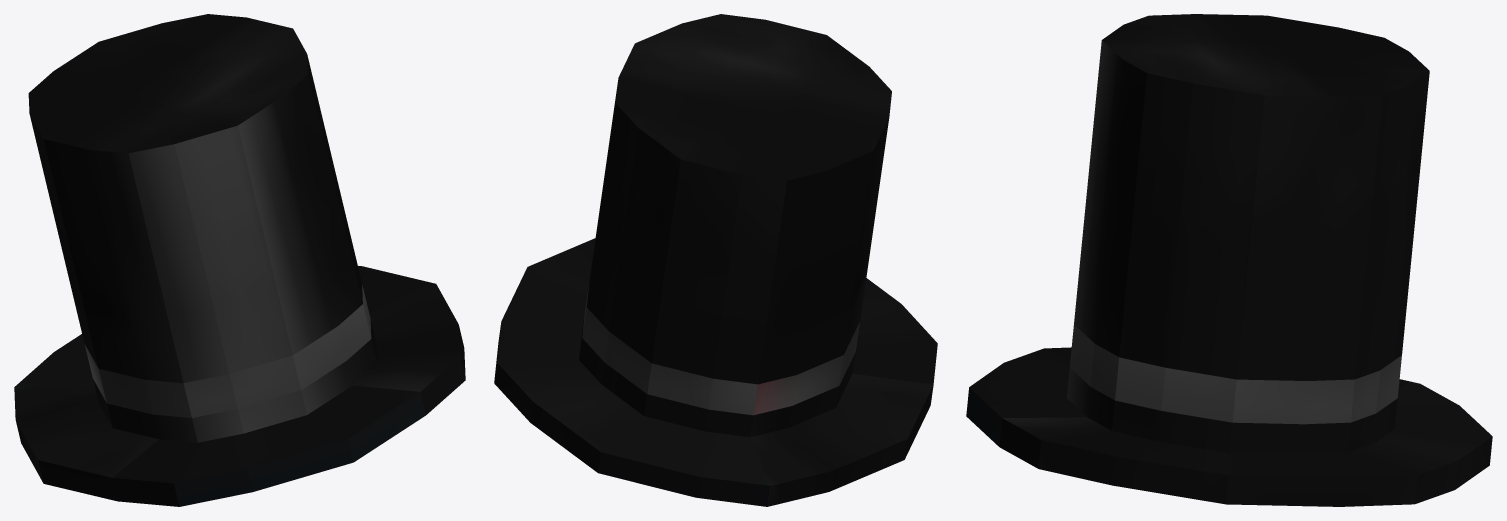
File: TOP HAT.fbx
3 views of the same model, side by side, from view 1: azimuth 30°, elevation 25°; view 2: azimuth 150°, elevation 25°; view 3: azimuth 270°, elevation 25° (orthographic). The views are drawn at different scales.
Visible parts, largest first — view 1: TOP_HAT; view 2: TOP_HAT; view 3: TOP_HAT.
Part boxes in pixels (x1,y1,x2,y2): TOP_HAT: [14, 14, 465, 506]; TOP_HAT: [494, 14, 937, 506]; TOP_HAT: [966, 14, 1492, 506].
Size of the model in its own units: 33.84 by 31.02 by 34.14.
